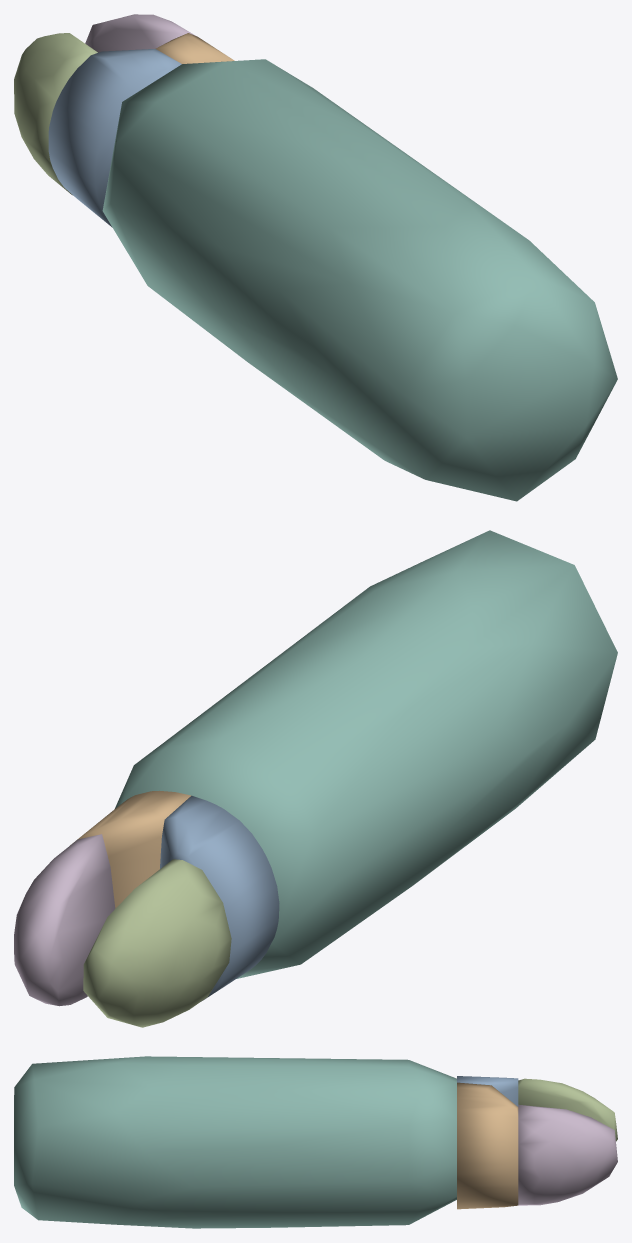
3 views of the same model, one above another, from view 1: azimuth 30°, elevation 25°; view 2: azimuth 150°, elevation 25°; view 3: azimuth 270°, elevation 25° (orthographic). The views are drawn at different scales.
Size of the model in its own units: 0.5652 by 0.5651 by 1.98.
